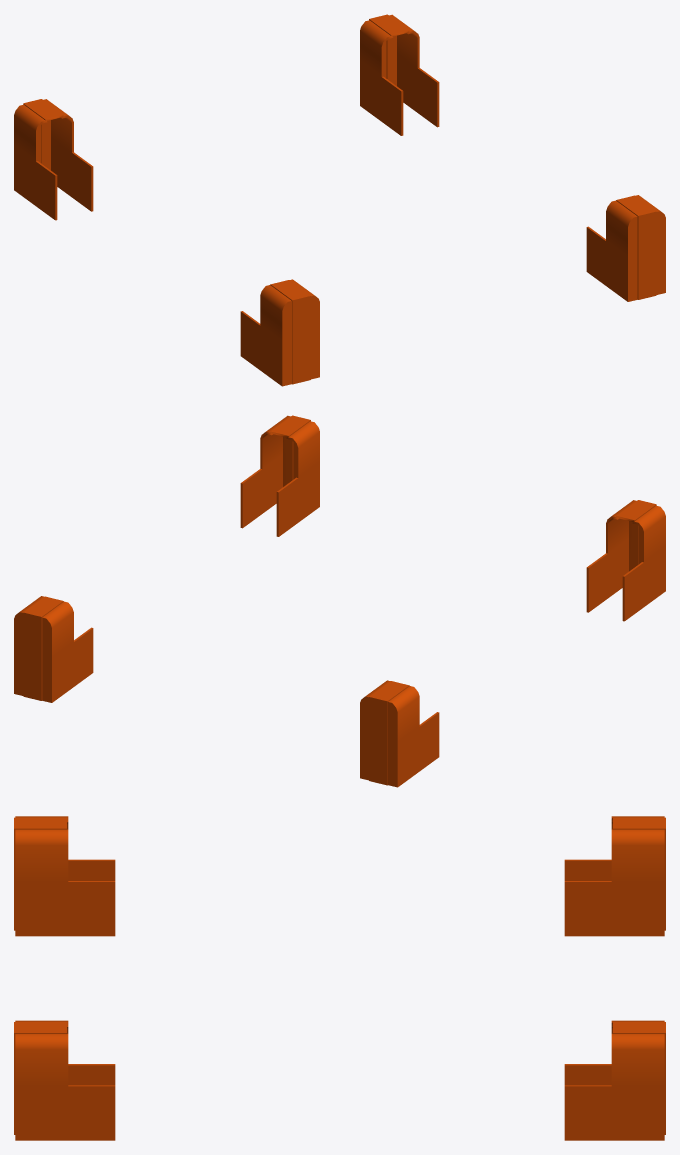
Rendered from mesh_Spaceship_Hockey_BarrelBoxes.fbx.
3 views of the same model, one above another, from view 1: azimuth 30°, elevation 25°; view 2: azimuth 150°, elevation 25°; view 3: azimuth 270°, elevation 25° (orthographic). The views are drawn at different scales.
Visible parts, largest first — view 1: mesh_spaceship_Wall.001; view 2: mesh_spaceship_Wall.001; view 3: mesh_spaceship_Wall.001.
Boxes of the visible parts, x1=… form: mesh_spaceship_Wall.001: x1=14, y1=14, x2=665, y2=386; mesh_spaceship_Wall.001: x1=14, y1=415, x2=665, y2=787; mesh_spaceship_Wall.001: x1=14, y1=816, x2=665, y2=1140.
Bounding box in the file's own units: 33.08 × 6.93 × 40.18.
